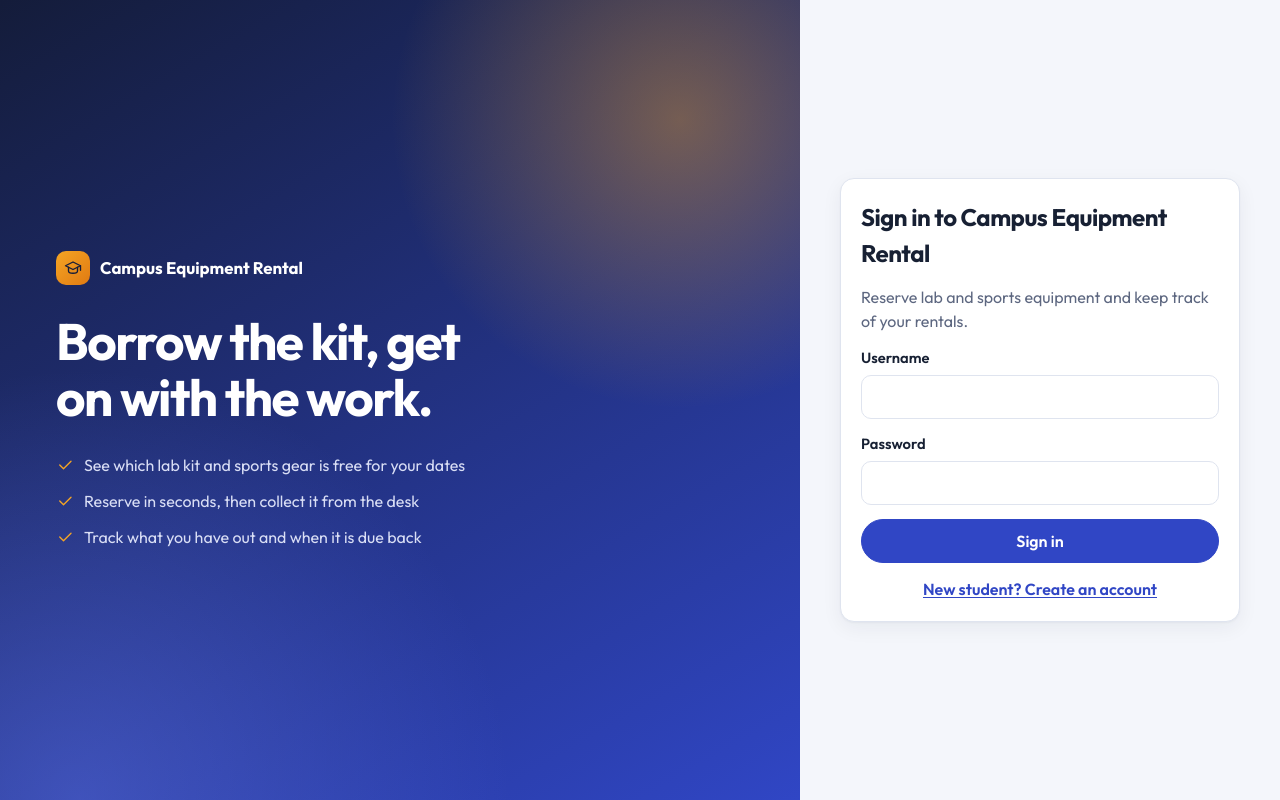
signing in stores the token and opens the equipment catalogue
This screenshot has width=1280, height=800.
Type "aoife" into the field labelled "Username".
click(1040, 397); type("aoife")  # box x1=861 y1=375 x2=1219 y2=419
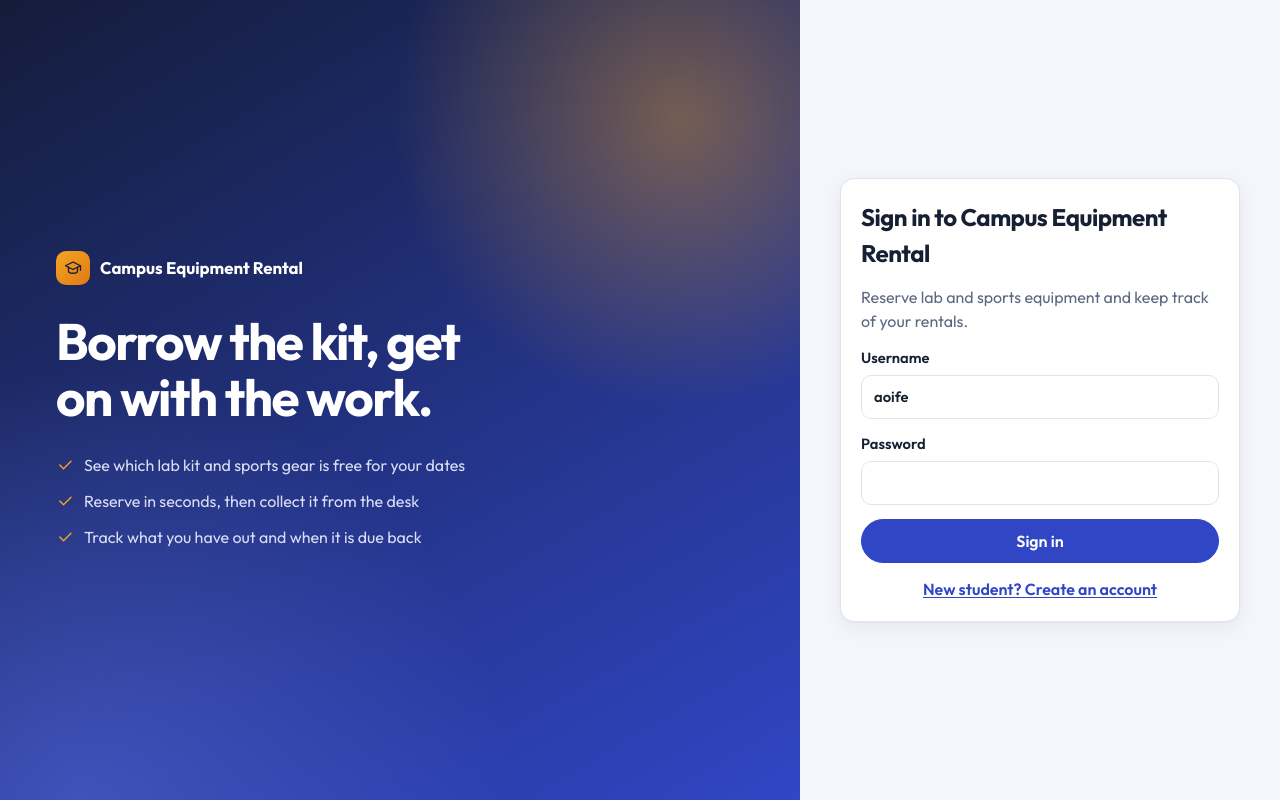
Type "secret" into the password field labelled "Password".
click(1040, 483); type("secret")  # box x1=861 y1=461 x2=1219 y2=505
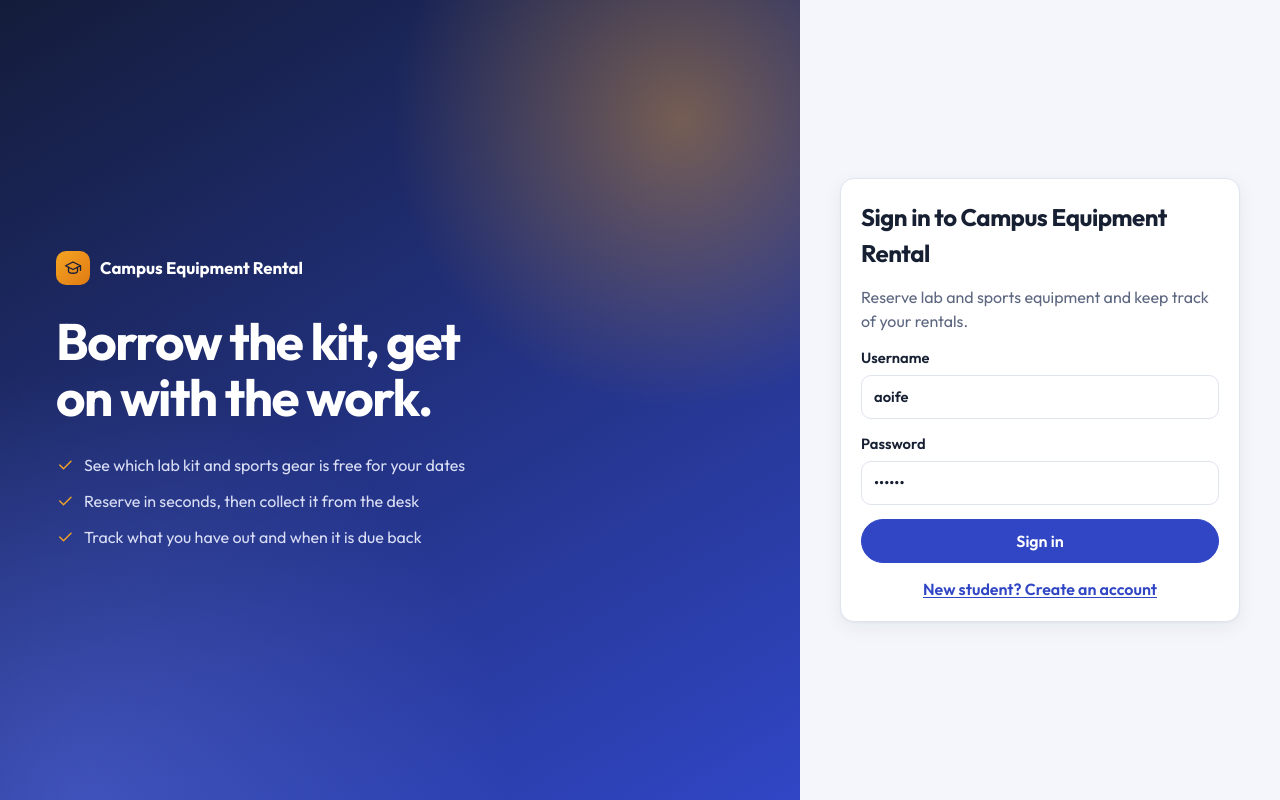
Click the button "Sign in".
click(1040, 541)  # box x1=861 y1=519 x2=1219 y2=563
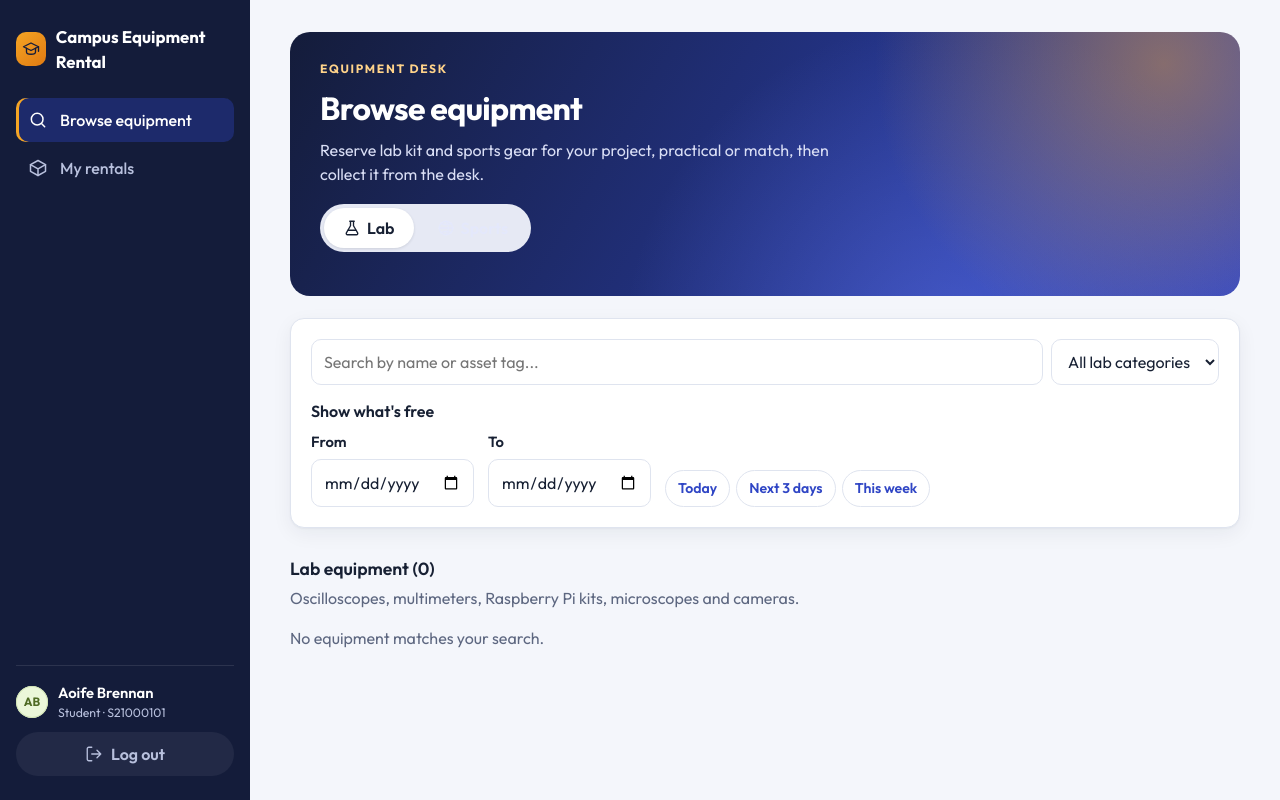
Check: the heading "Browse equipment" is shown, box x1=320 y1=88 x2=582 y2=128
